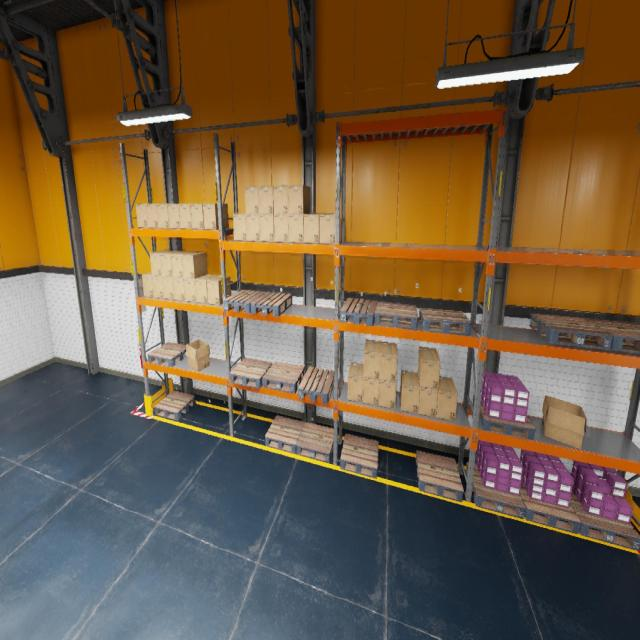box: (542, 395, 586, 449), (418, 347, 440, 389), (437, 376, 457, 422), (418, 373, 438, 417), (400, 370, 420, 414), (185, 339, 210, 372), (207, 275, 231, 305), (195, 274, 218, 304), (380, 342, 397, 382), (347, 362, 364, 402), (203, 203, 228, 230), (364, 340, 381, 379), (182, 252, 207, 278), (288, 185, 310, 214), (170, 251, 193, 278), (160, 250, 183, 276), (150, 250, 172, 276), (379, 380, 396, 409), (363, 377, 379, 406), (320, 214, 335, 243), (304, 214, 319, 243), (273, 185, 288, 214), (288, 215, 304, 242), (259, 185, 273, 214), (274, 214, 288, 242), (245, 186, 259, 214), (233, 213, 247, 241), (246, 214, 260, 241), (190, 203, 204, 229), (260, 215, 274, 241), (179, 203, 192, 229), (156, 204, 169, 228), (168, 203, 180, 228), (173, 277, 185, 301), (146, 204, 158, 228), (184, 279, 196, 302), (136, 204, 148, 227), (142, 272, 153, 297), (162, 277, 174, 299), (152, 276, 164, 298)
pallets: (570, 490, 640, 550), (466, 462, 526, 519), (520, 481, 581, 534), (472, 394, 536, 440), (529, 314, 613, 349), (416, 450, 464, 502), (584, 318, 640, 353), (340, 433, 379, 478), (265, 415, 305, 453), (297, 422, 333, 463), (419, 308, 471, 336), (298, 366, 334, 404), (263, 361, 304, 393), (230, 357, 272, 388), (374, 301, 418, 330), (154, 390, 196, 420), (340, 297, 378, 326), (223, 289, 266, 313), (251, 292, 292, 316), (148, 342, 186, 367)
